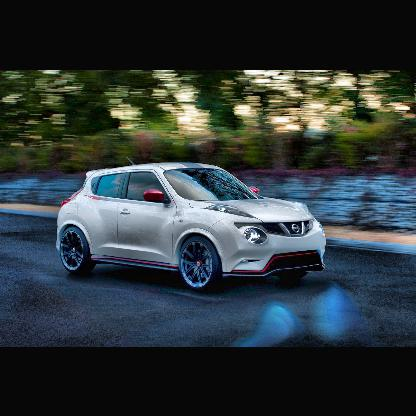Nissan Juke Hatchback 2012: (55, 154, 333, 300)
